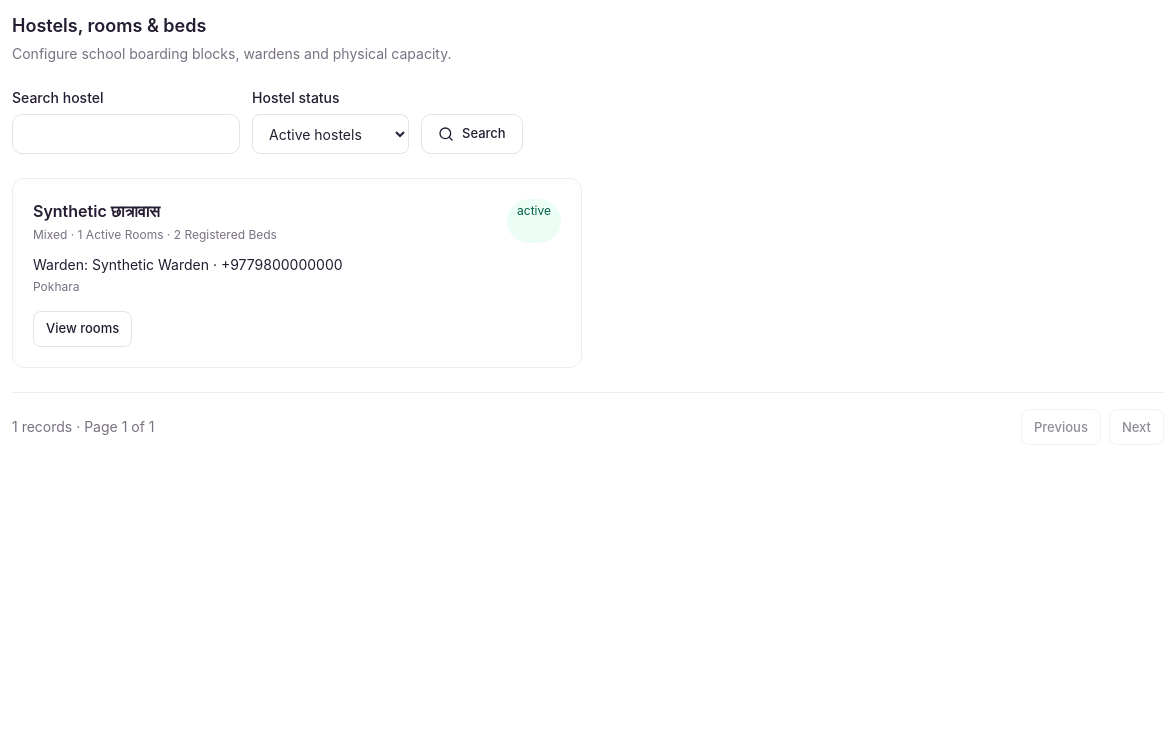
Test case: read-only hostel staff see configured rooms without editing or allocation controls
The image size is (1176, 732).
Click the button "View rooms" at (83, 329), box x1=33 y1=311 x2=132 y2=347
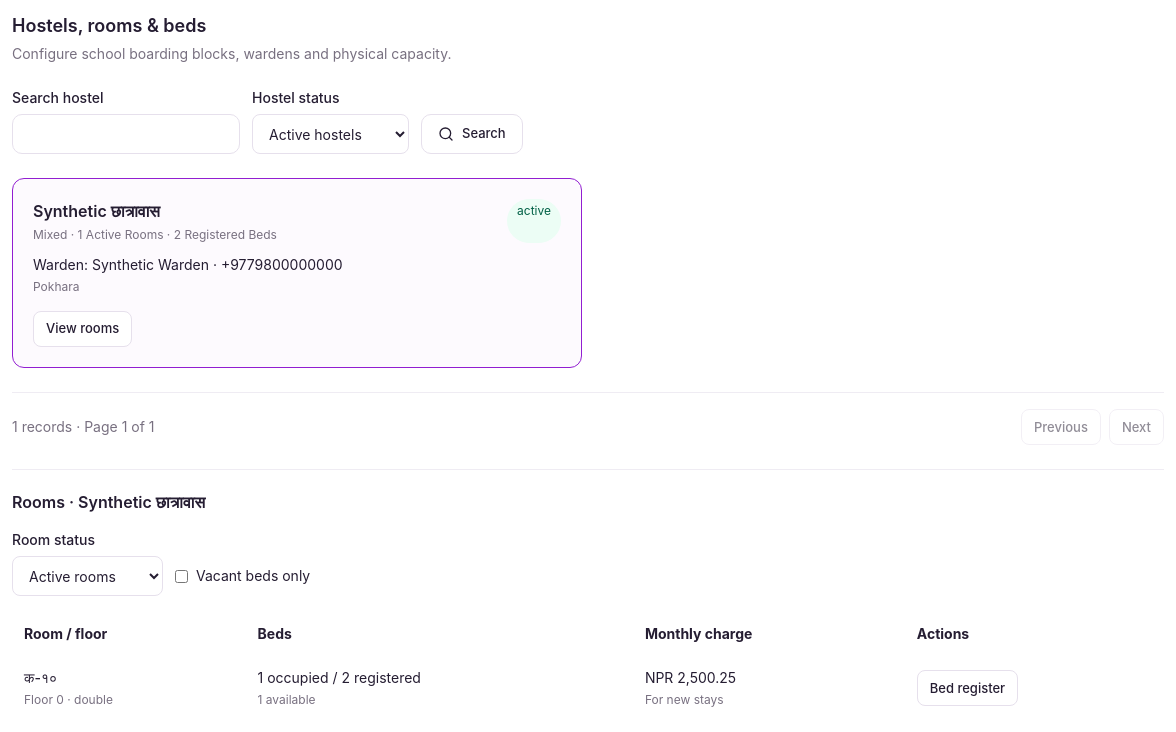
Result: the text "क-१०" is shown at x1=24 y1=669 x2=57 y2=686
Result: the button "Bed register" is shown at x1=917 y1=670 x2=1018 y2=706
